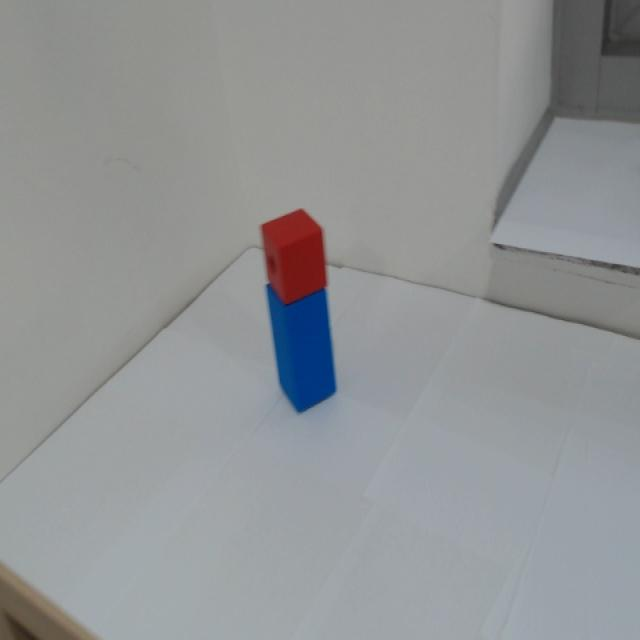cube: (260, 208, 333, 303)
